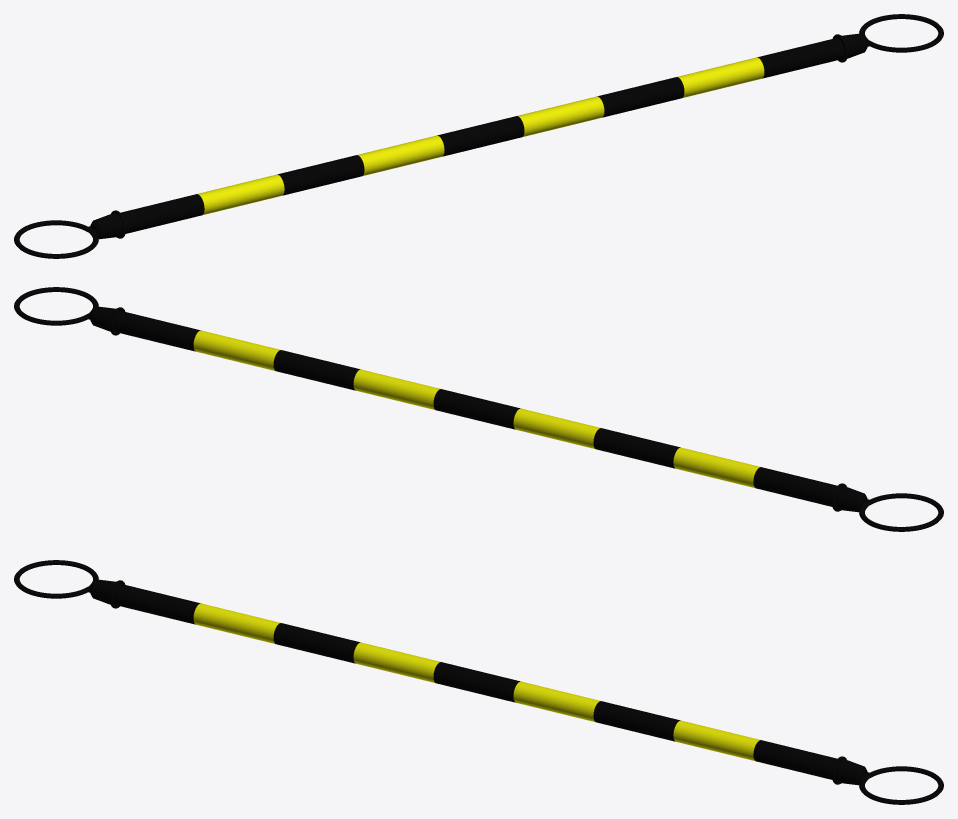
The model's file is ConeBar_2.fbx.
3 views of the same model, one above another, from view 1: azimuth 30°, elevation 25°; view 2: azimuth 150°, elevation 25°; view 3: azimuth 330°, elevation 25° (orthographic).
Parts seen in each view (by area): view 1: pCylinder3; view 2: pCylinder3; view 3: pCylinder3.
Boxes of the visible parts, bbox=[...] form: pCylinder3: bbox=[14, 14, 943, 258]; pCylinder3: bbox=[14, 287, 943, 531]; pCylinder3: bbox=[14, 560, 943, 804].
Size of the model in its own units: 7.17 by 0.1964 by 0.5737.
